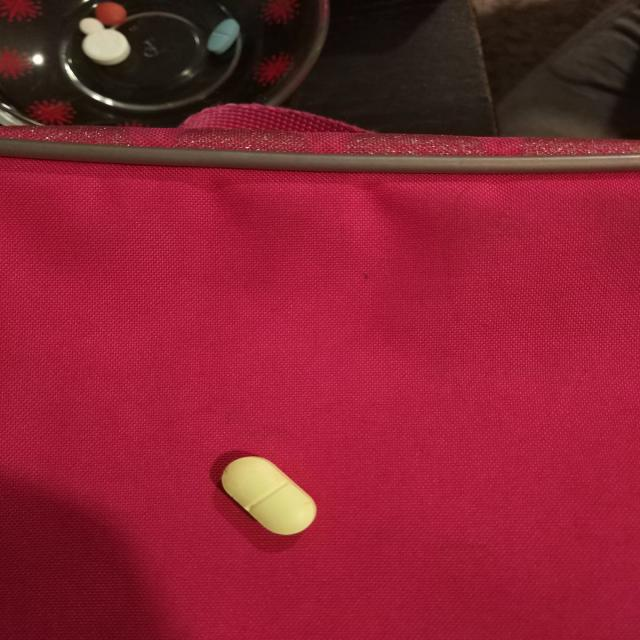pills: (205, 443, 325, 542)
